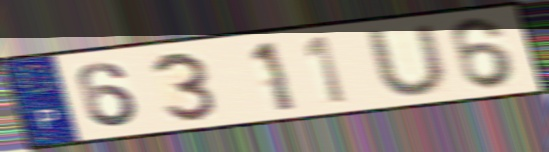1: (247, 38, 300, 114), (302, 33, 351, 106)
3: (147, 47, 222, 124)
6: (448, 15, 521, 93), (74, 61, 142, 128)
U: (362, 22, 455, 98)
